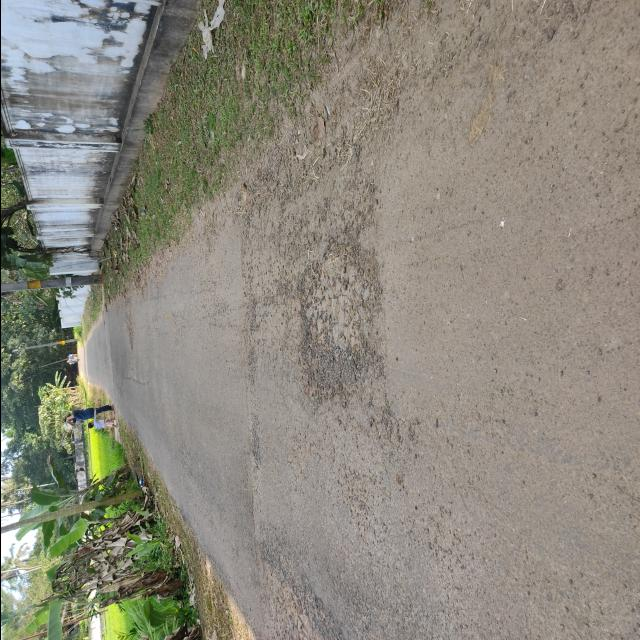potholes: (292, 232, 388, 406)
